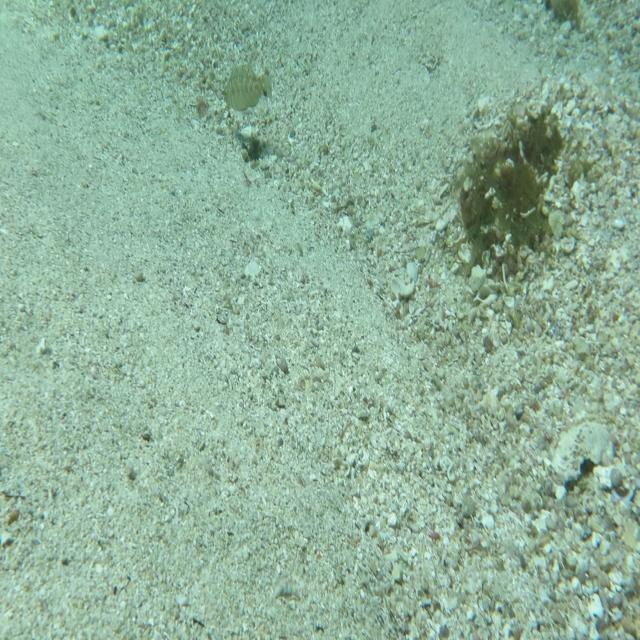SA: (221, 56, 274, 114)
core_nest: (524, 123, 559, 159)
nest: (458, 97, 566, 285)
vegetation: (244, 132, 266, 164), (196, 87, 212, 119)
